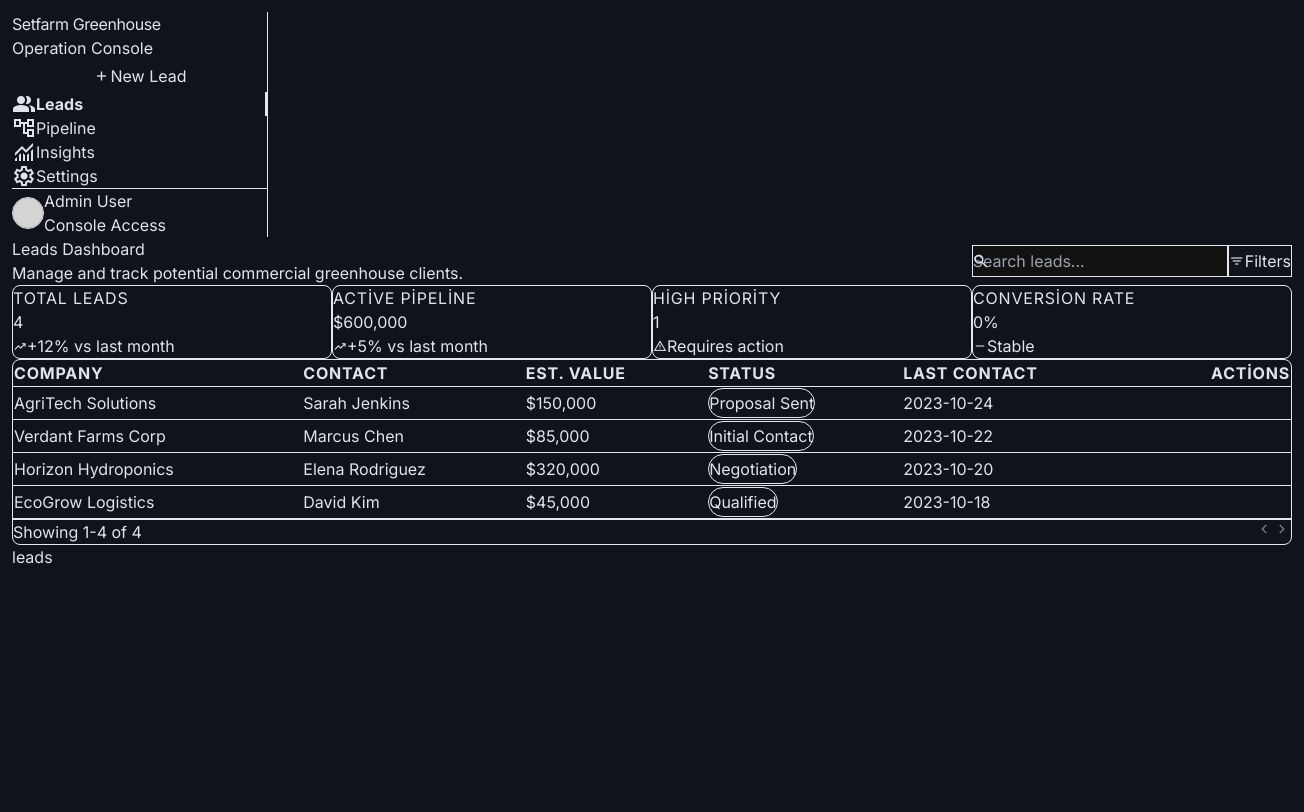
Test: LeadsDashboard › navigates to pipeline via sidebar
Click the button "Pipeline". click: click(54, 128)
box: [12, 114, 96, 142]
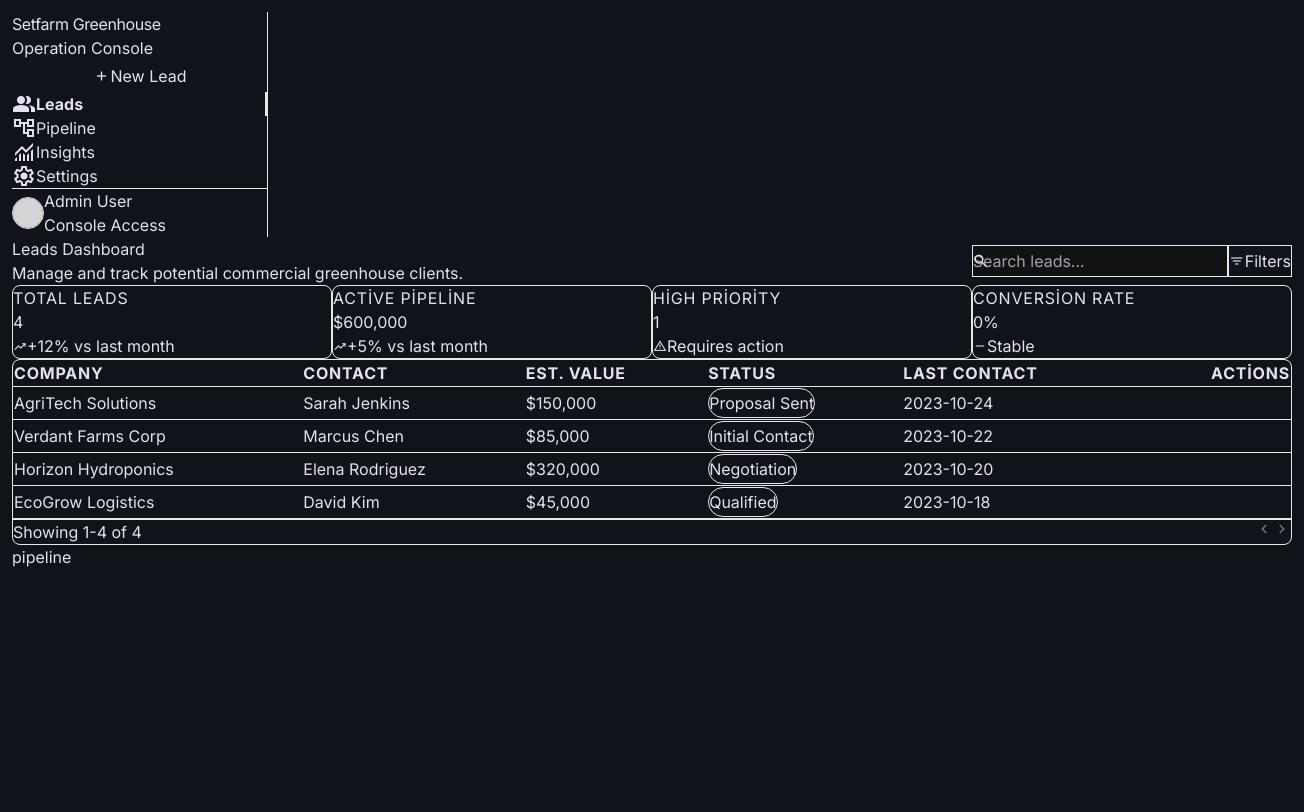
Expected: the text with test id "current-screen" reads "pipeline", [12, 547, 71, 567]
